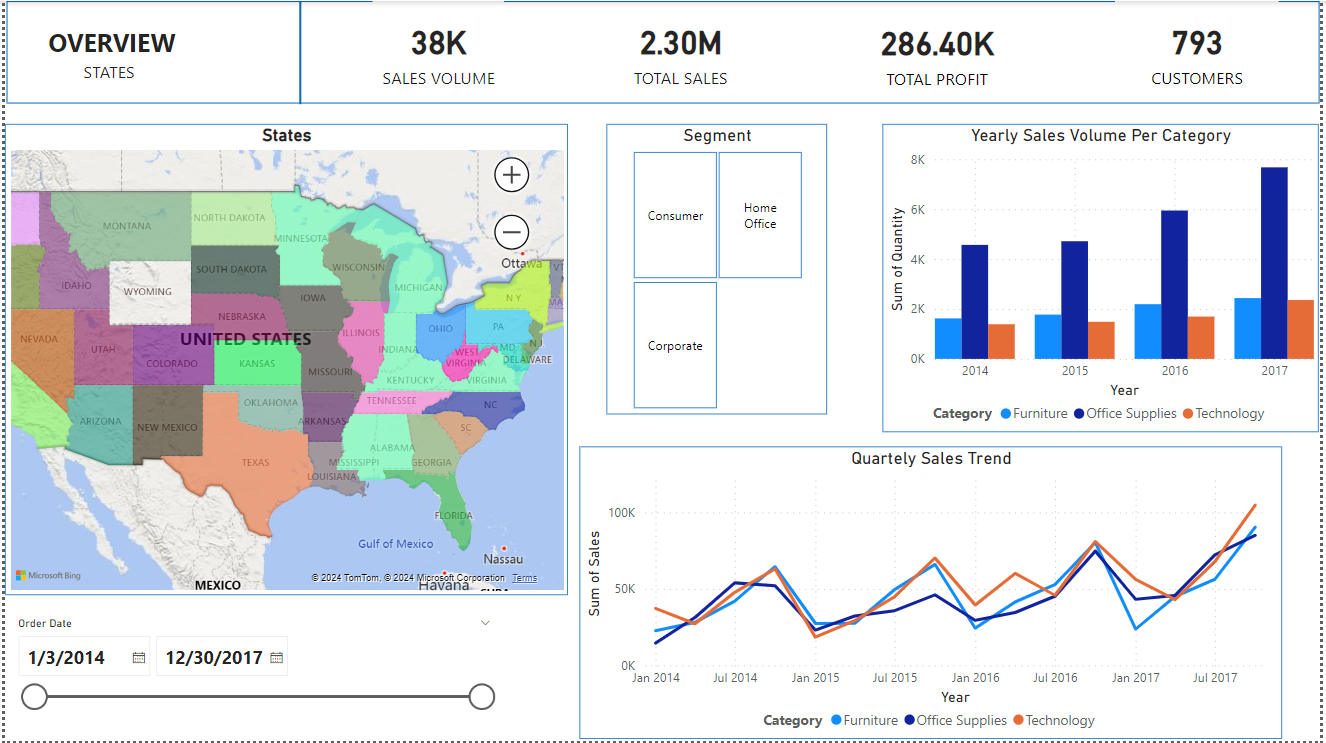

The dashboard page shown, as its layout file describes it:
{"tool":"powerbi","page":{"name":"SALES","canvas":[1280,720],"ordinal":1},"visuals":[{"type":"lineChart","title":"Quartely Sales Trend","fields":{"Y":["Sum(Sample - Superstore -.Sales)"],"Category":["Sample - Superstore -.Order Date.Variation.Date Hierarchy.Year","Sample - Superstore -.Order Date.Variation.Date Hierarchy.Quarter","Sample - Superstore -.Order Date.Variation.Date Hierarchy.Month","Sample - Superstore -.Order Date.Variation.Date Hierarchy.Day"],"Series":["Sample - Superstore -.Category"]},"box":[559.8,434.2,683.9,284.4],"z":0},{"type":"textbox","box":[0,0,208,96],"z":1000},{"type":"card","fields":{"Values":["Sum(Sample - Superstore -.Sales)"]},"box":[585.7,0,144,96.6],"z":2000},{"type":"shape","box":[1.5,0,1278.5,99.9],"z":4000},{"type":"shape","box":[175.8,0,224.5,100.4],"z":5000},{"type":"filledMap","title":"States","fields":{"Category":["Sample - Superstore -.State"],"Series":["Sample - Superstore -.Profit"]},"box":[0,119.5,547.7,458.4],"z":6000},{"type":"card","fields":{"Values":["Sum(Sample - Superstore -.Quantity)"]},"box":[357.7,0,128.2,96.6],"z":7000},{"type":"clusteredColumnChart","title":"Yearly Sales Volume Per Category","fields":{"Category":["Sample - Superstore -.Order Date.Variation.Date Hierarchy.Year","Sample - Superstore -.Order Date.Variation.Date Hierarchy.Quarter","Sample - Superstore -.Order Date.Variation.Date Hierarchy.Month","Sample - Superstore -.Order Date.Variation.Date Hierarchy.Day"],"Y":["Sum(Sample - Superstore -.Quantity)"],"Series":["Sample - Superstore -.Category"]},"box":[855.1,119.7,424.4,300],"z":8000},{"type":"slicer","title":"Segment","fields":{"Values":["Sample - Superstore -.Segment"]},"box":[585.5,119.5,214.8,282.9],"z":9000},{"type":"card","fields":{"Values":["Count(Sample - Superstore -.Customer ID)"]},"box":[1080,0,159.3,96.5],"z":10000},{"type":"card","fields":{"Values":["Sum(Sample - Superstore -.Profit)"]},"box":[837.3,3.2,140.9,93.4],"z":11000},{"type":"slicer","fields":{"Values":["Sample - Superstore -.Order Date"]},"box":[0,594.7,485.2,124.6],"z":12000}]}

Visuals, with their boxes in screenshot pixels (x1, y1, x2, y2), scaled from the page's 1280x720 canvas onto the 1326x743 screenshot:
"Quartely Sales Trend" lineChart: <bbox>580, 448, 1288, 742</bbox>
textbox: <bbox>0, 0, 215, 99</bbox>
card - Sum(Sample - Superstore -.Sales): <bbox>607, 0, 756, 100</bbox>
shape: <bbox>2, 0, 1325, 103</bbox>
shape: <bbox>182, 0, 415, 104</bbox>
"States" filledMap: <bbox>0, 123, 567, 596</bbox>
card - Sum(Sample - Superstore -.Quantity): <bbox>371, 0, 503, 100</bbox>
"Yearly Sales Volume Per Category" clusteredColumnChart: <bbox>886, 124, 1325, 433</bbox>
"Segment" slicer: <bbox>607, 123, 829, 415</bbox>
card - Count(Sample - Superstore -.Customer ID): <bbox>1119, 0, 1284, 100</bbox>
card - Sum(Sample - Superstore -.Profit): <bbox>867, 3, 1013, 100</bbox>
slicer - Sample - Superstore -.Order Date: <bbox>0, 614, 503, 742</bbox>
